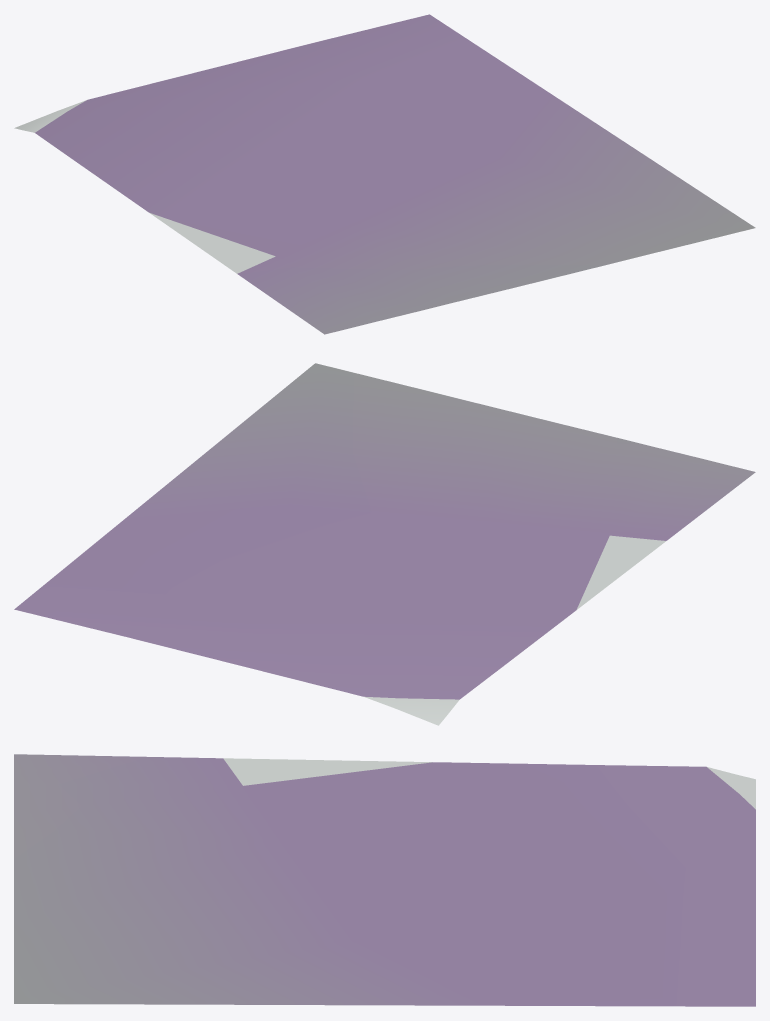
3 renders of one model, top to bottom at view 1: azimuth 30°, elevation 25°; view 2: azimuth 150°, elevation 25°; view 3: azimuth 270°, elevation 25°, orthographic. The views are drawn at different scales.
Parts seen in each view (by area): view 1: G:\FFXIV-MapTools\exports\m5f1\bg\ex4\02_mid_m5\fld\m5f1\bgp (×2); view 2: G:\FFXIV-MapTools\exports\m5f1\bg\ex4\02_mid_m5\fld\m5f1\bgp (×2); view 3: G:\FFXIV-MapTools\exports\m5f1\bg\ex4\02_mid_m5\fld\m5f1\bgp (×2).
Part boxes in pixels (x1,y1,x2,y2): G:\FFXIV-MapTools\exports\m5f1\bg\ex4\02_mid_m5\fld\m5f1\bgp (×2): [14, 14, 755, 334]; G:\FFXIV-MapTools\exports\m5f1\bg\ex4\02_mid_m5\fld\m5f1\bgp (×2): [14, 363, 755, 725]; G:\FFXIV-MapTools\exports\m5f1\bg\ex4\02_mid_m5\fld\m5f1\bgp (×2): [14, 754, 755, 1006].
Bounding box in the file's own units: 103 × 5.08 × 128.
